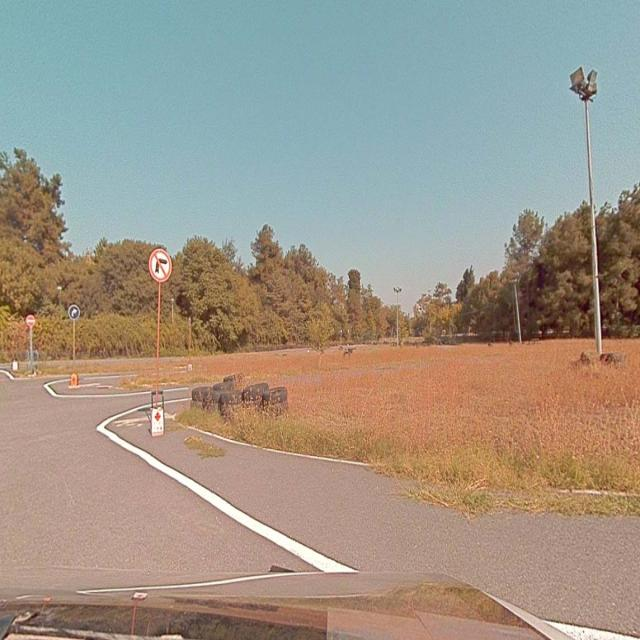girisyok: (26, 316, 34, 326)
sag: (69, 304, 79, 318)
sagadonulmez: (148, 250, 172, 282)
